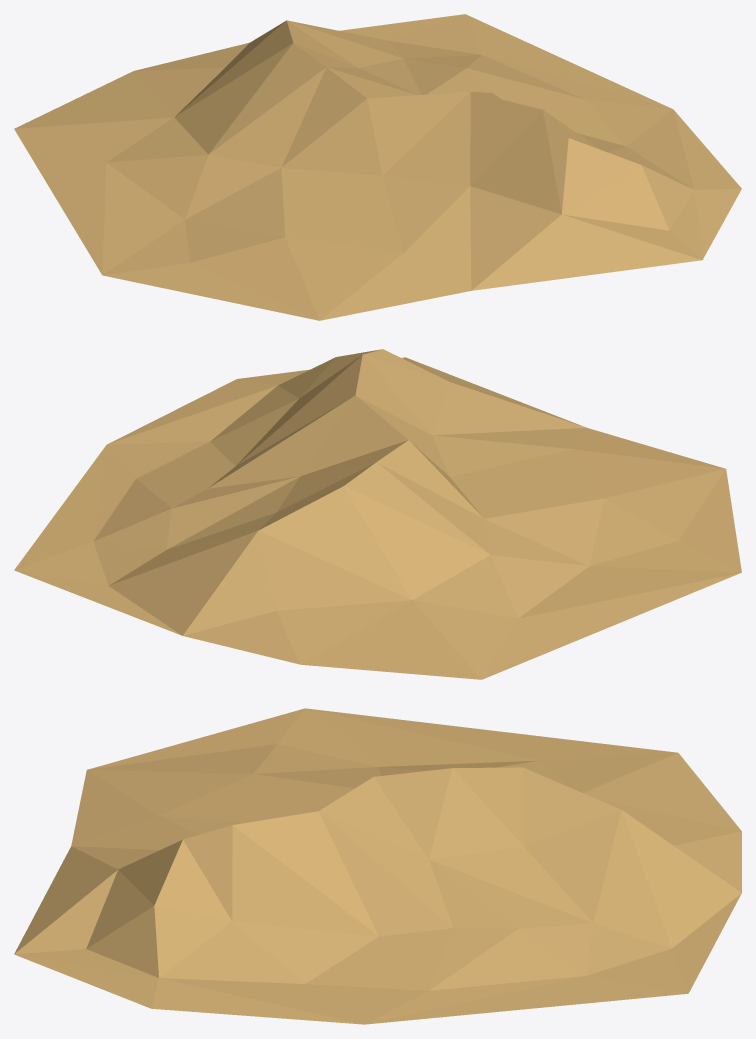
The model's file is TB_D_Env_DuneB_B.FBX.
3 views of the same model, one above another, from view 1: azimuth 30°, elevation 25°; view 2: azimuth 150°, elevation 25°; view 3: azimuth 270°, elevation 25° (orthographic). The views are drawn at different scales.
Visible parts, largest first — view 1: TB_D_Env_DuneB_B; view 2: TB_D_Env_DuneB_B; view 3: TB_D_Env_DuneB_B.
Boxes of the visible parts, x1,y1,x2,y2 form: TB_D_Env_DuneB_B: [14, 14, 741, 320]; TB_D_Env_DuneB_B: [14, 349, 741, 679]; TB_D_Env_DuneB_B: [14, 708, 741, 1024].
Size of the model in its own units: 15.42 by 2.24 by 15.
